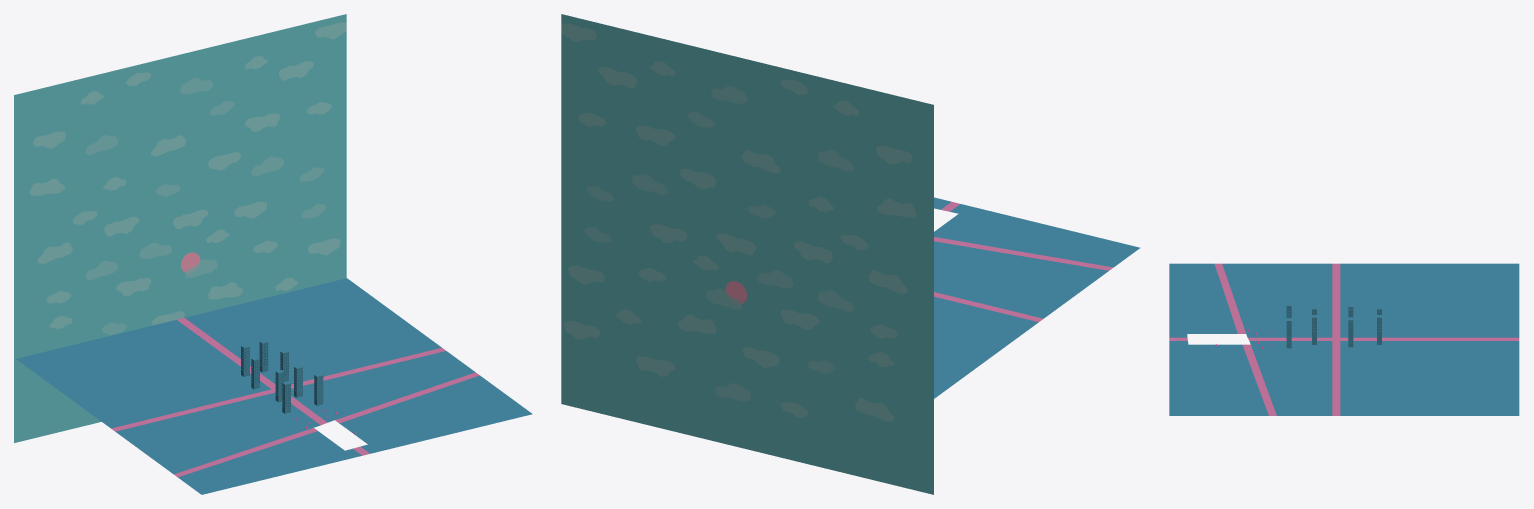
File: combatscene-base.fbx
The picture shows the model from 3 angles, left to right: view 1: azimuth 30°, elevation 25°; view 2: azimuth 150°, elevation 25°; view 3: azimuth 270°, elevation 25°; orthographic projection. The views are drawn at different scales.
Visible parts, largest first — view 1: pPlane2, pPlane8; view 2: pPlane2, pPlane8; view 3: pPlane8.
Boxes of the visible parts, x1,y1,x2,y2 form: pPlane2: (14,14,346,442); pPlane8: (16,278,532,494); pPlane2: (561,14,933,494); pPlane8: (934,197,1140,398); pPlane8: (1169,263,1519,415).
Bounding box in the file's own units: 62.05 × 62 × 60.06.
